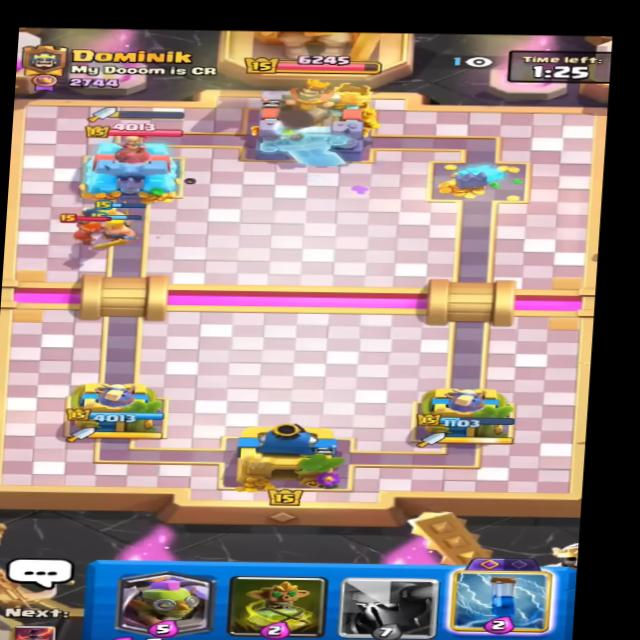Valk: (53, 210, 121, 249)
